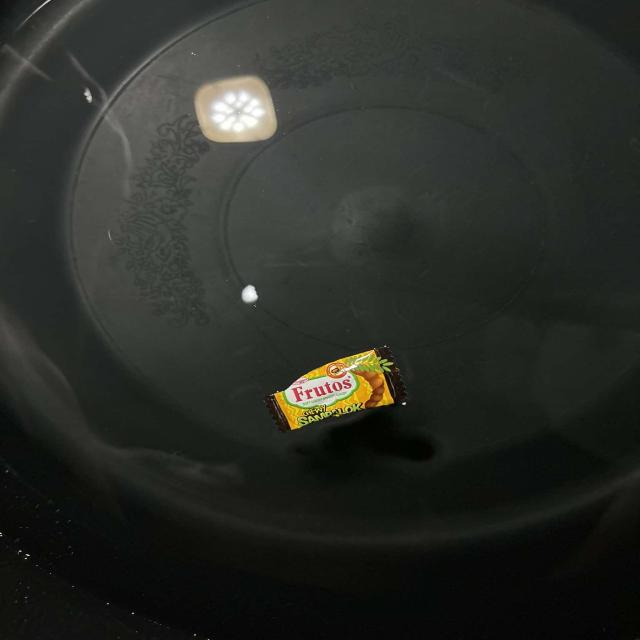Plastic Wrapper: (265, 347, 407, 432)
